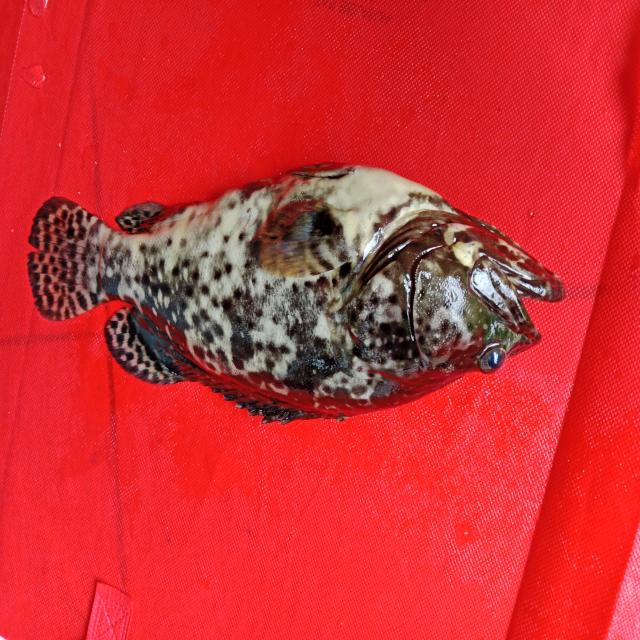ikan: (20, 135, 582, 435)
